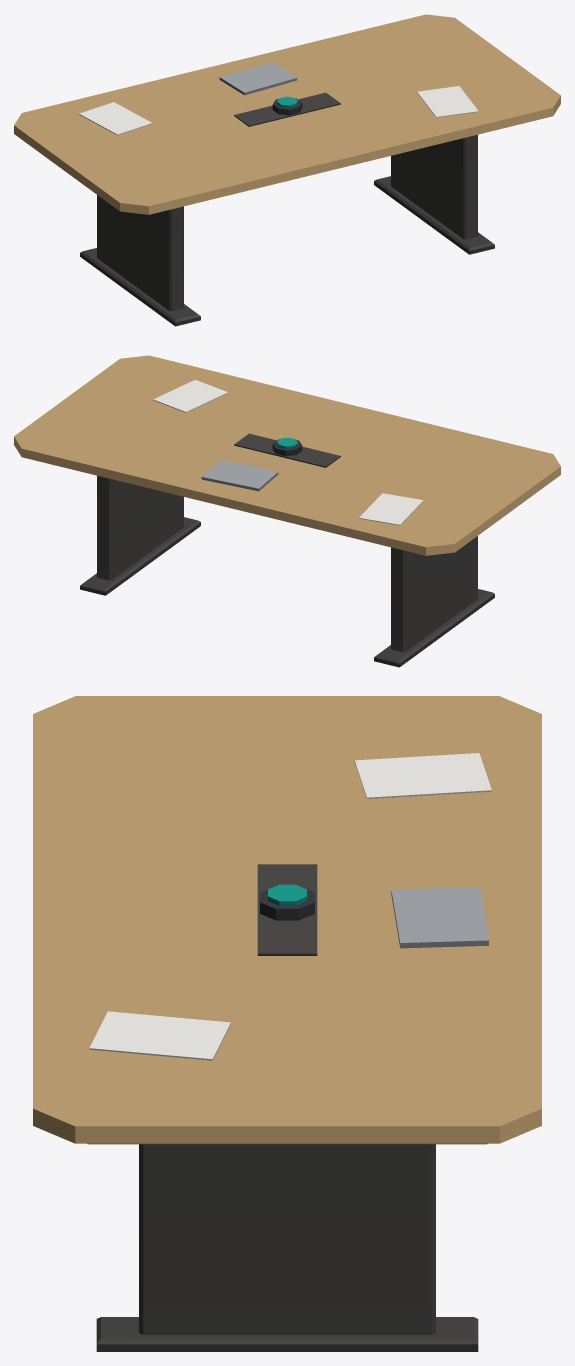
The model's file is table_meeting_01.glb.
3 views of the same model, one above another, from view 1: azimuth 30°, elevation 25°; view 2: azimuth 150°, elevation 25°; view 3: azimuth 270°, elevation 25° (orthographic). The views are drawn at different scales.
Parts seen in each view (by area): view 1: table_meeting_01_mesh; view 2: table_meeting_01_mesh; view 3: table_meeting_01_mesh.
Boxes of the visible parts, left/top/right/bottom form: table_meeting_01_mesh: left=14, top=14, right=560, bottom=326; table_meeting_01_mesh: left=14, top=355, right=560, bottom=667; table_meeting_01_mesh: left=33, top=696, right=541, bottom=1351.
Bounding box in the file's own units: 2.4 × 0.7879 × 1.2.
Materials: 1 (1 with a texture image).
